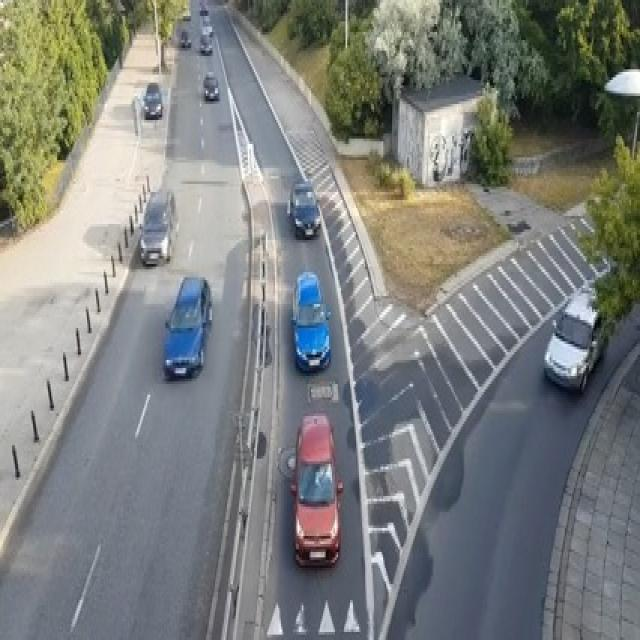car: (288, 413, 342, 568), (542, 280, 608, 395), (162, 274, 212, 378), (290, 269, 330, 371), (138, 187, 177, 264), (285, 179, 320, 237), (141, 83, 162, 117), (203, 69, 219, 99), (200, 32, 212, 53), (200, 16, 212, 35), (180, 29, 191, 48), (198, 3, 208, 13), (182, 8, 191, 19)
